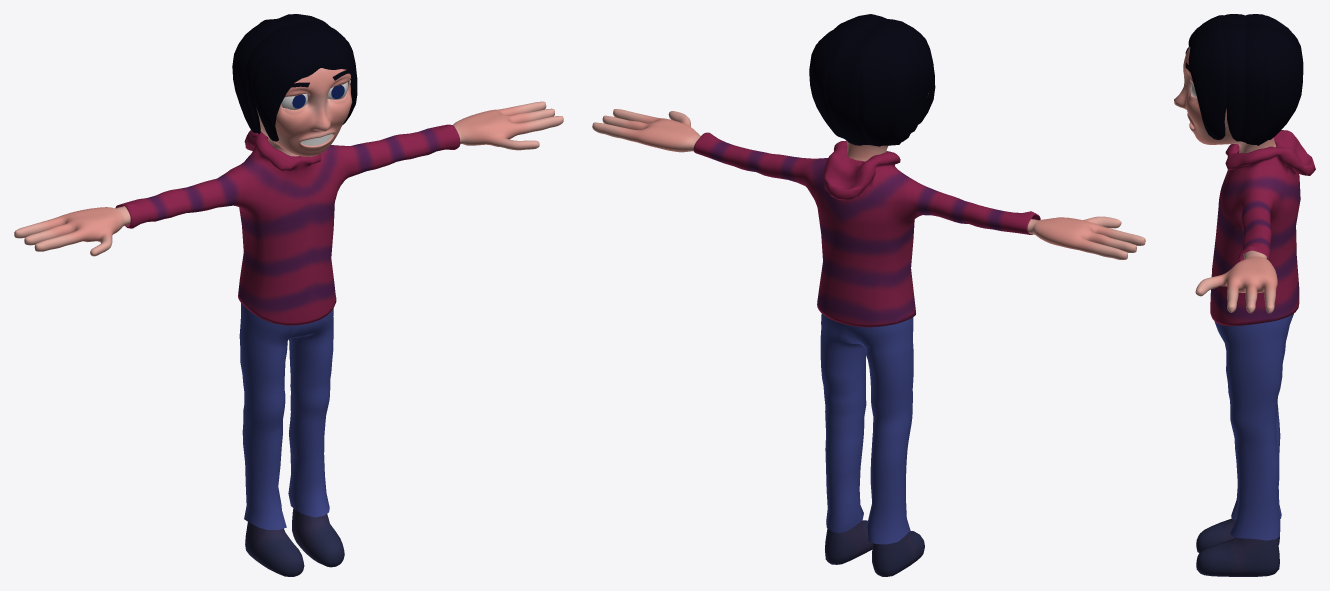
File: MALE.obj
3 renders of one model, left to right at view 1: azimuth 30°, elevation 25°; view 2: azimuth 150°, elevation 25°; view 3: azimuth 270°, elevation 25°, orthographic.
Parts seen in each view (by area): view 1: Shirt, Trousers, Body001, Plane001; view 2: Shirt, Trousers, Plane001, Body001; view 3: Shirt, Plane001, Trousers, Body001.
Boxes of the visible parts, x1,y1,x2,y2 form: Shirt: (115, 124, 460, 325); Trousers: (239, 303, 333, 529); Body001: (14, 68, 563, 576); Plane001: (232, 14, 357, 141); Shirt: (693, 132, 1040, 327); Trousers: (820, 313, 913, 544); Plane001: (809, 14, 935, 146); Body001: (592, 93, 1145, 576); Shirt: (1210, 130, 1315, 326); Plane001: (1188, 14, 1303, 145); Trousers: (1214, 314, 1293, 540); Body001: (1174, 47, 1279, 576).
Bounding box in the file's own units: 3917 × 3746 × 891.
7 materials, 3 textured.
